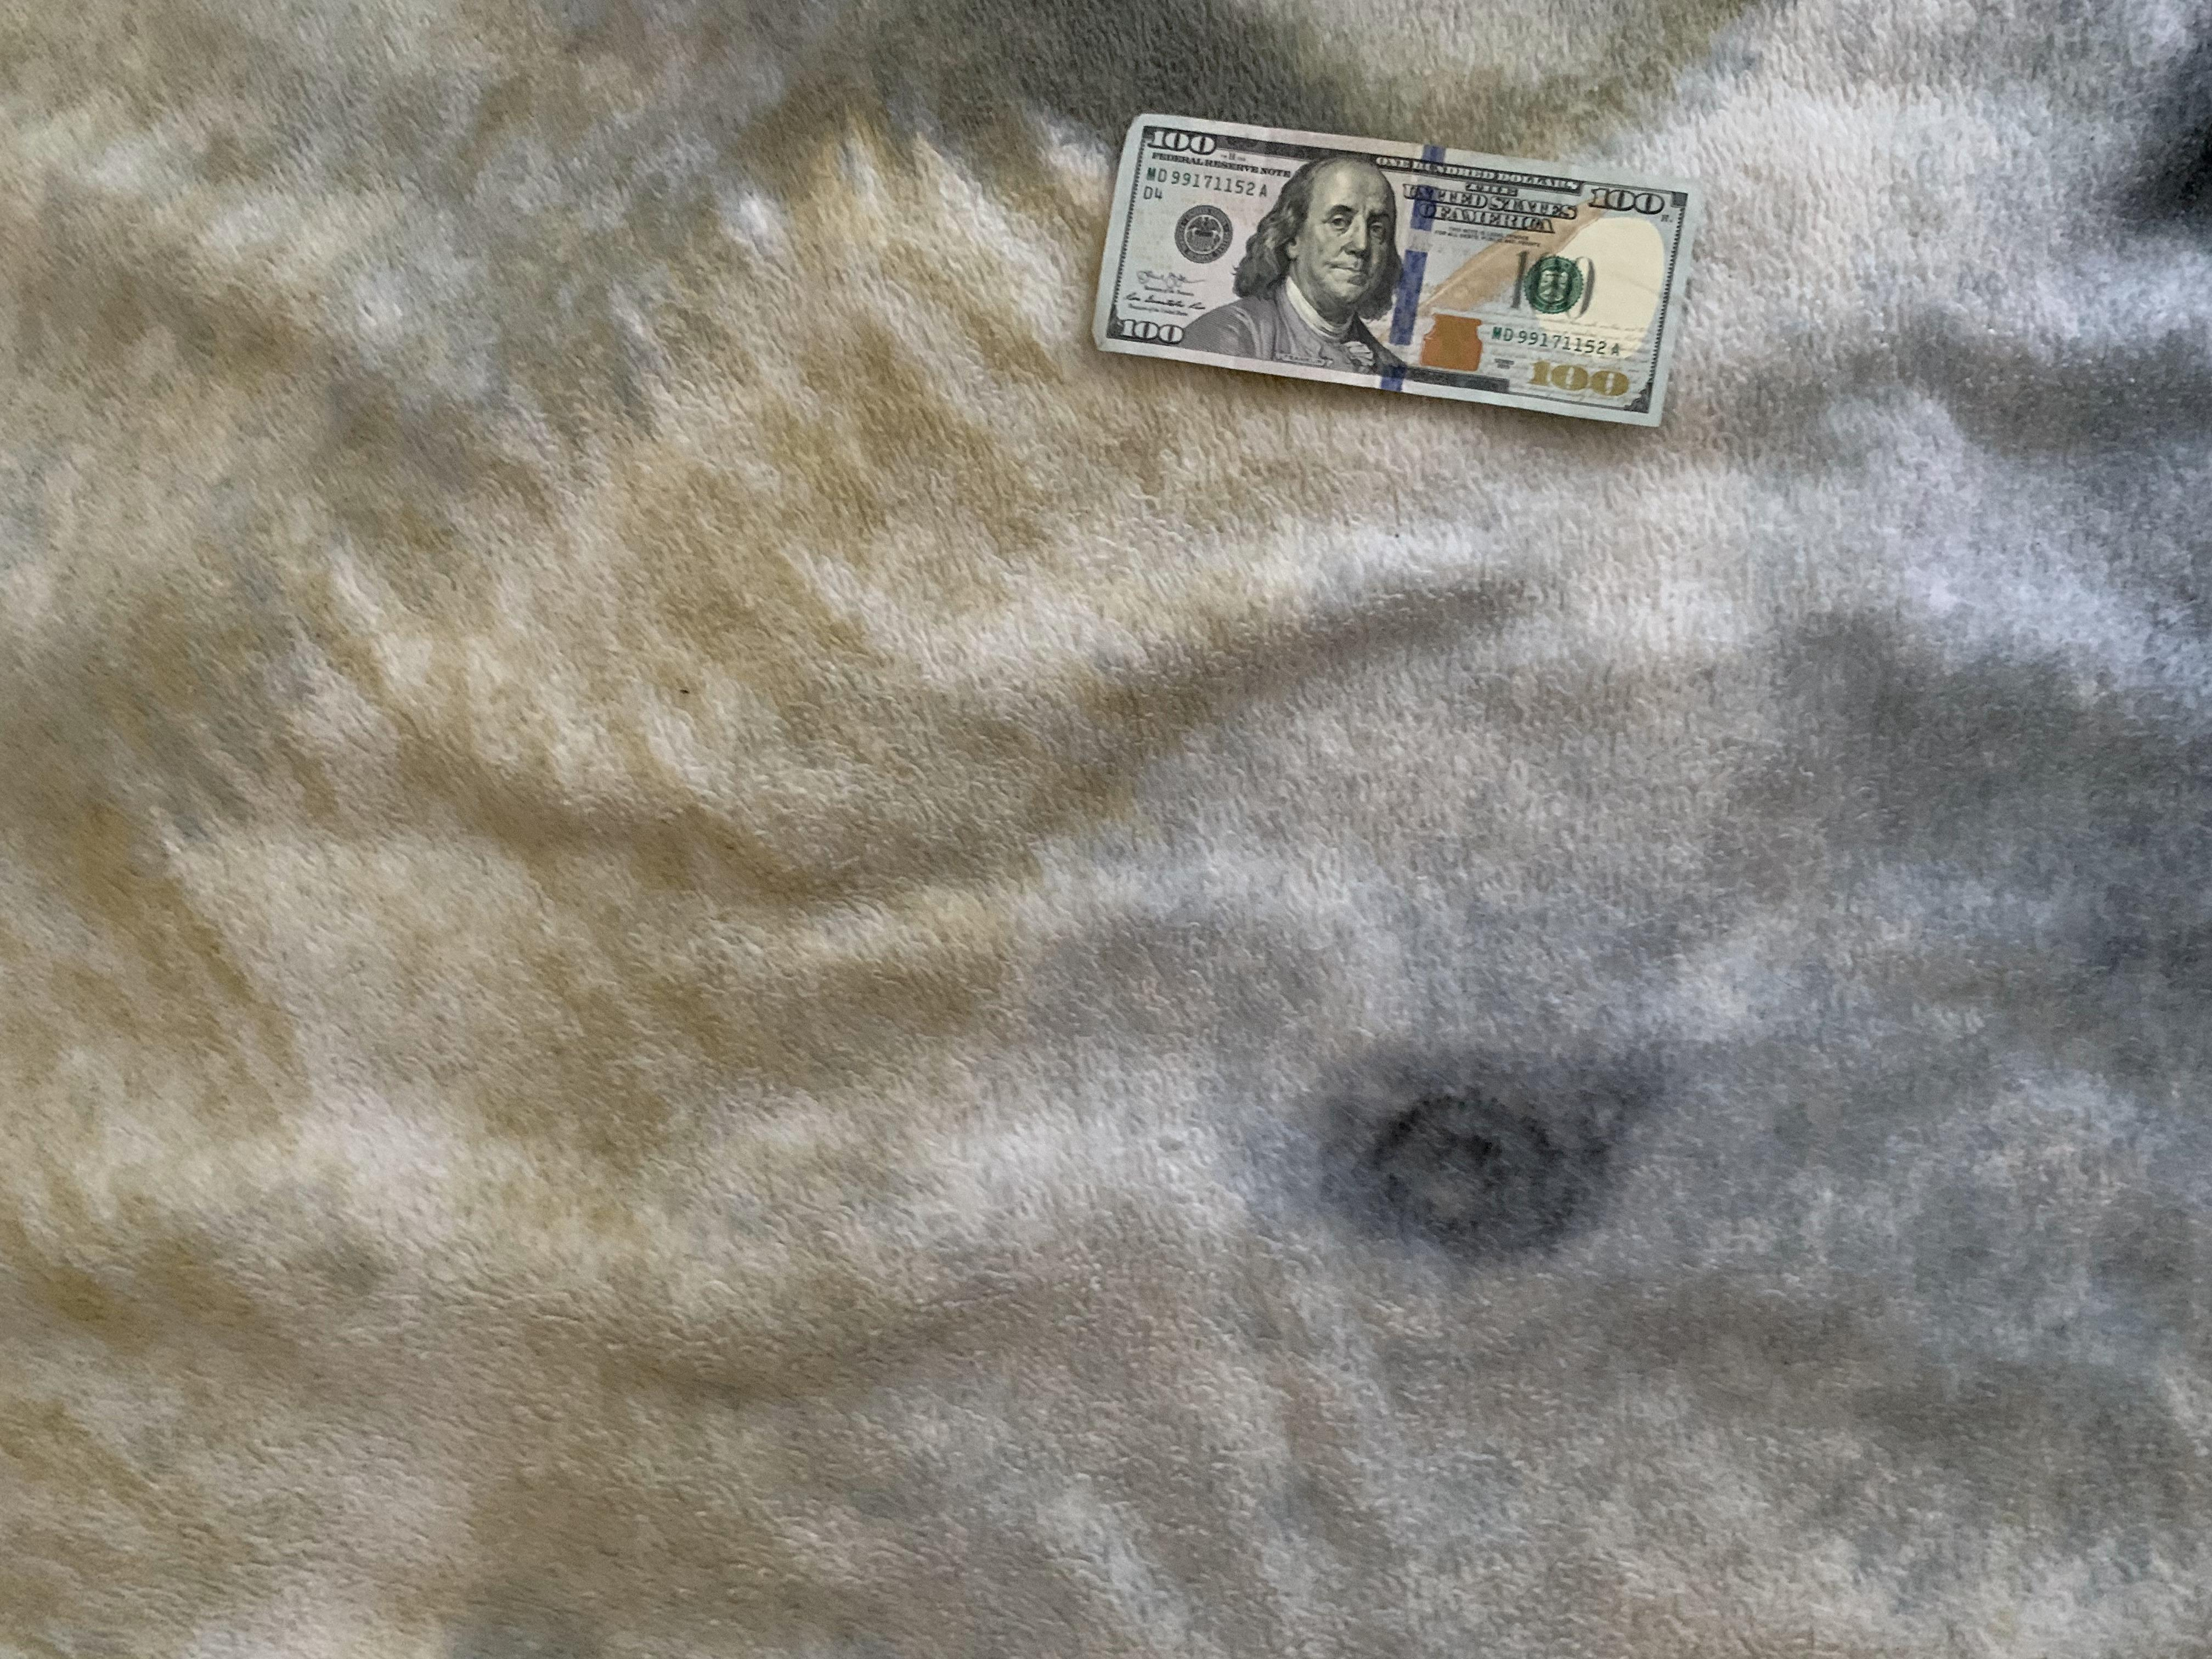HundredBill: (1092, 110, 1700, 434)
